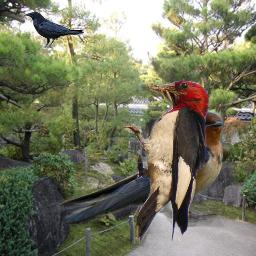Crow: (23, 11, 84, 50)
Swallow: (29, 109, 233, 227)
Woodpecker: (124, 80, 210, 244)
